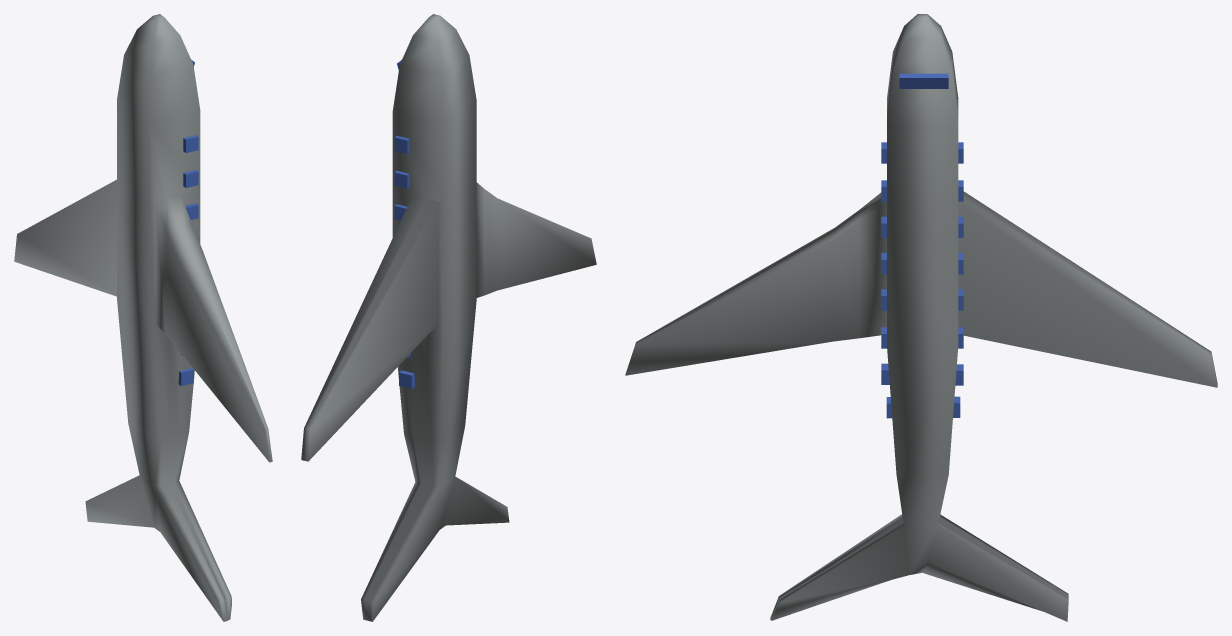
3 views of the same model, side by side, from view 1: azimuth 30°, elevation 25°; view 2: azimuth 150°, elevation 25°; view 3: azimuth 270°, elevation 25° (orthographic). The views are drawn at different scales.
Visible parts, largest first — view 1: Cube; view 2: Cube; view 3: Cube, Cube.017.
Boxes of the visible parts, left/top/right/bottom form: Cube: left=14, top=14, right=272, bottom=621; Cube: left=301, top=14, right=596, bottom=621; Cube: left=625, top=14, right=1217, bottom=621; Cube.017: left=899, top=73, right=948, bottom=88.
Size of the model in its own units: 0.3995 by 4.14 by 3.68.
